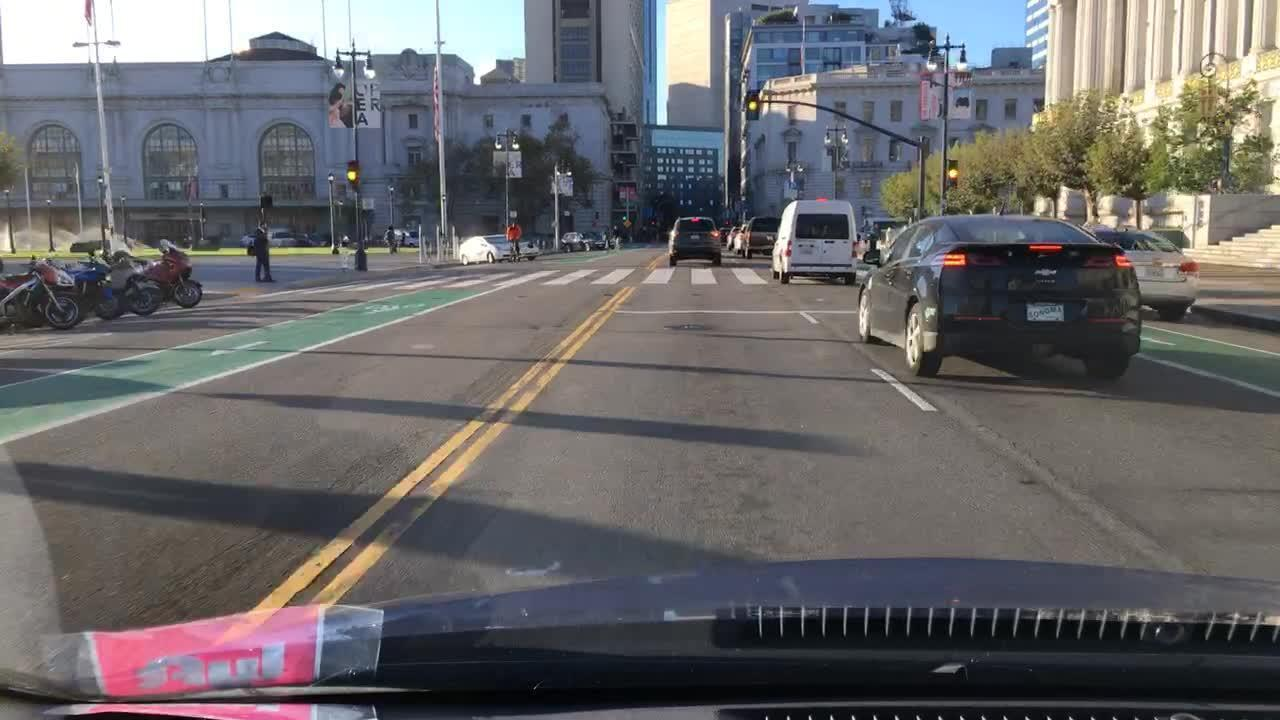chevrolet: (1027, 263, 1069, 278)
